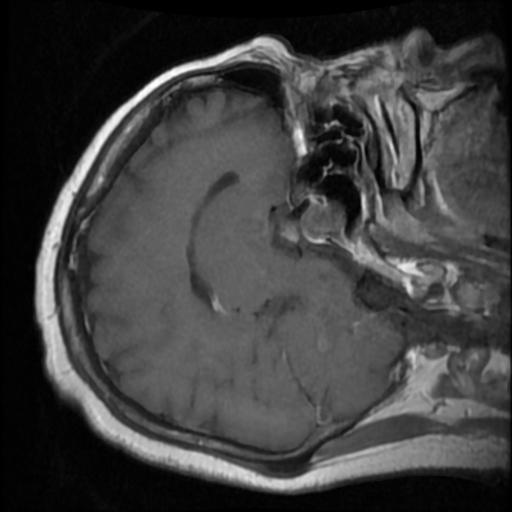pituitary tumour: (298, 198, 345, 242)
